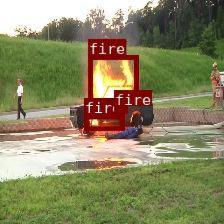fire: (88, 54, 138, 101), (84, 113, 123, 130), (113, 105, 126, 113)
